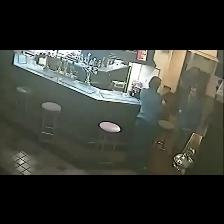person: (126, 77, 162, 174), (177, 85, 202, 150), (174, 67, 200, 113)
